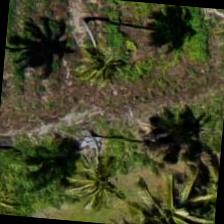Kelapa_Sawit: (50, 135, 149, 223), (38, 0, 135, 71), (38, 0, 134, 67), (116, 174, 212, 223)
